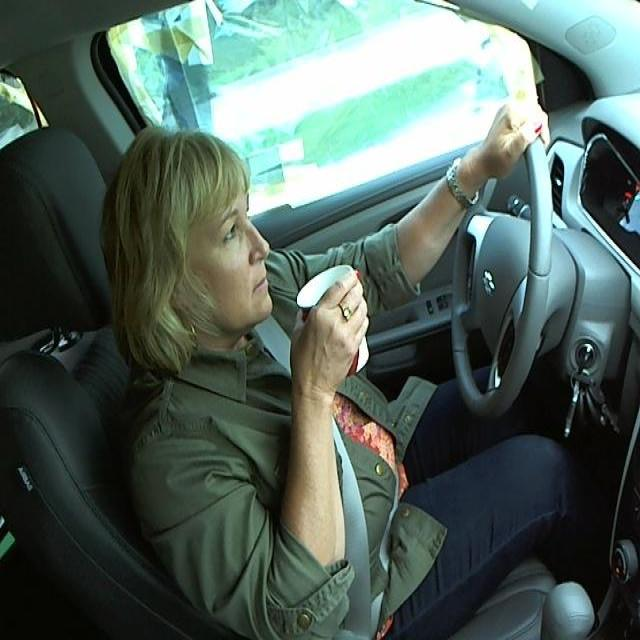Seatbelt: (292, 266, 374, 378)
